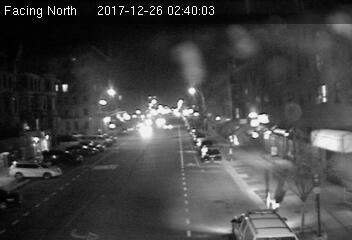car: (200, 147, 223, 166)
truck: (229, 208, 300, 240)
